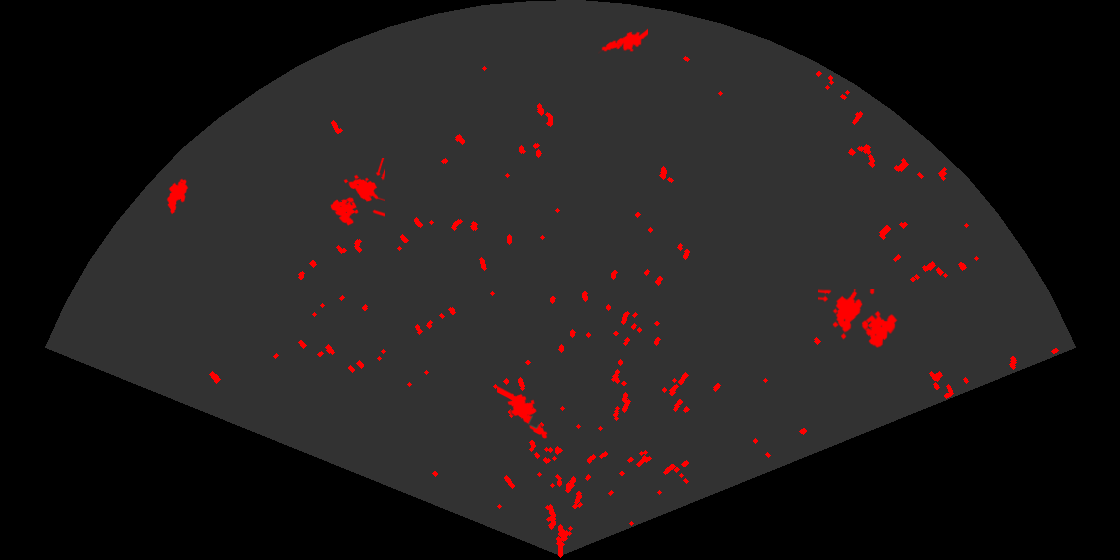AUV: (165, 177, 190, 216)
cage: (818, 289, 899, 349), (329, 158, 385, 227)
frogman: (497, 384, 549, 440), (598, 24, 648, 55)
